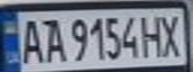1: (87, 15, 106, 61)
4: (121, 12, 142, 60)
5: (103, 14, 124, 61)
9: (66, 15, 90, 62)
A: (15, 16, 45, 64), (36, 16, 66, 64)
H: (139, 11, 166, 58)
X: (157, 11, 187, 58)
